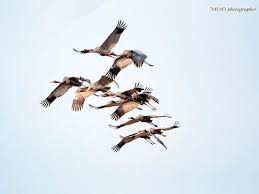seu_dau_do: (72, 23, 130, 60), (38, 75, 96, 100), (122, 121, 182, 139)
